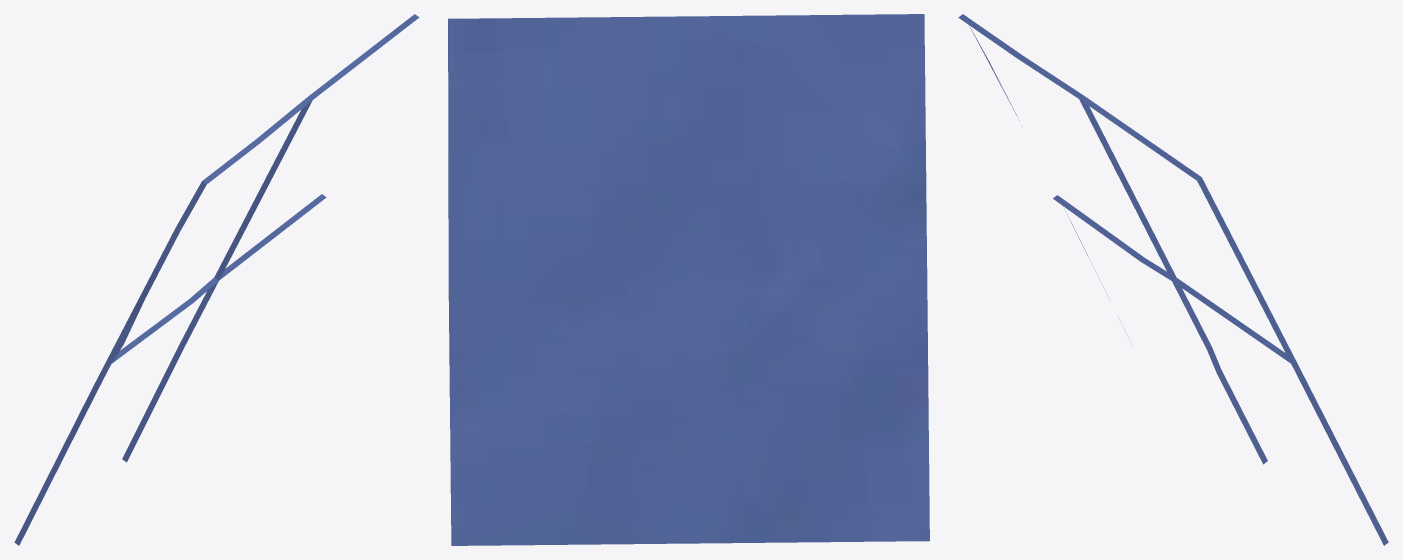
3 views of the same model, side by side, from view 1: azimuth 30°, elevation 25°; view 2: azimuth 150°, elevation 25°; view 3: azimuth 270°, elevation 25° (orthographic). The views are drawn at different scales.
Size of the model in its own units: 19612 by 17822 by 16739.
Materials: 1 (1 with a texture image).
